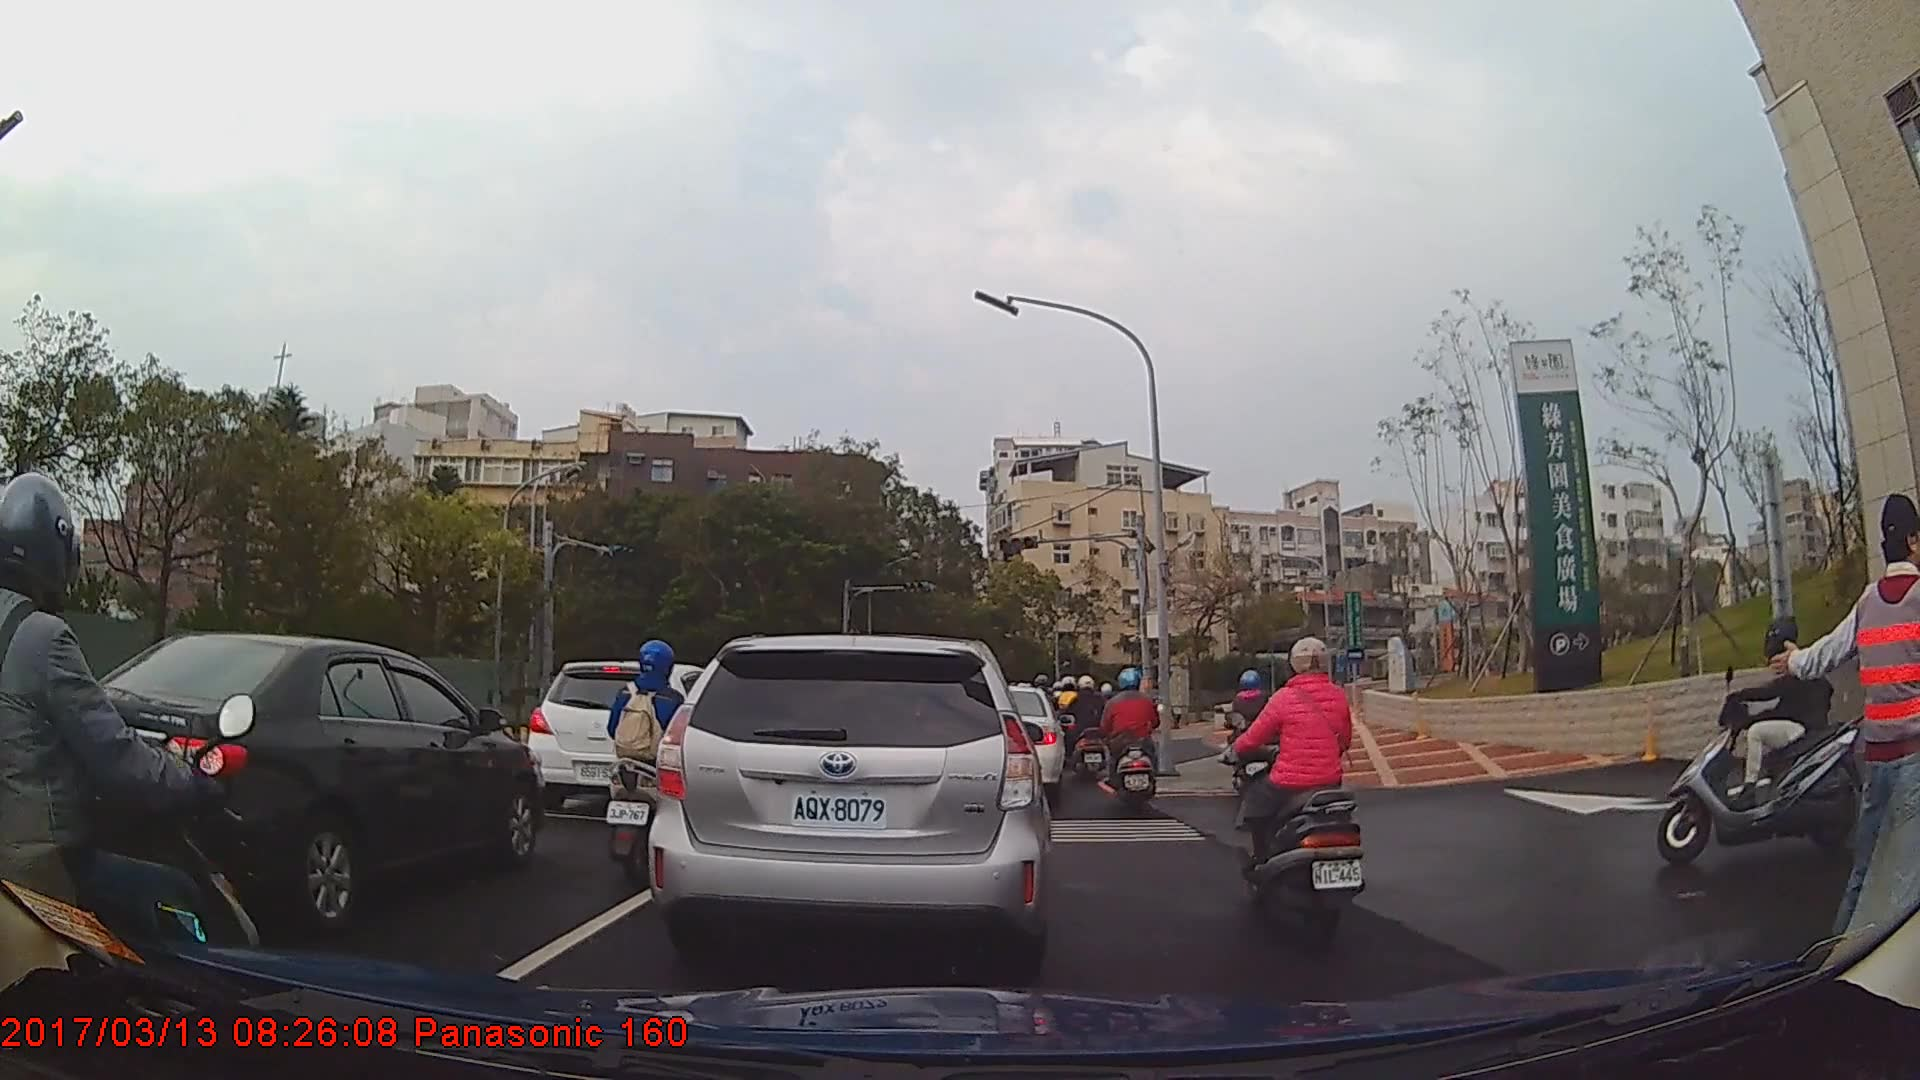pedestrian: (1778, 495, 1920, 979)
rider: (1, 474, 268, 1080), (1658, 619, 1871, 859), (1229, 636, 1365, 948), (604, 633, 701, 890), (1097, 666, 1166, 821), (1225, 665, 1275, 811), (1068, 674, 1110, 784)
vehicle: (28, 630, 541, 934), (644, 634, 1049, 955), (526, 661, 741, 812), (958, 684, 1065, 800)
